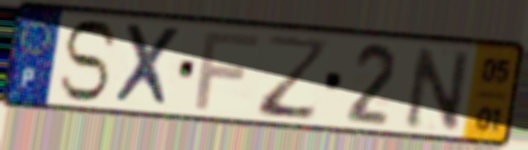2: (344, 41, 399, 129)
F: (192, 29, 262, 113)
N: (403, 43, 473, 133)
S: (55, 17, 120, 105)
X: (110, 21, 184, 112)
Z: (256, 32, 333, 123)
